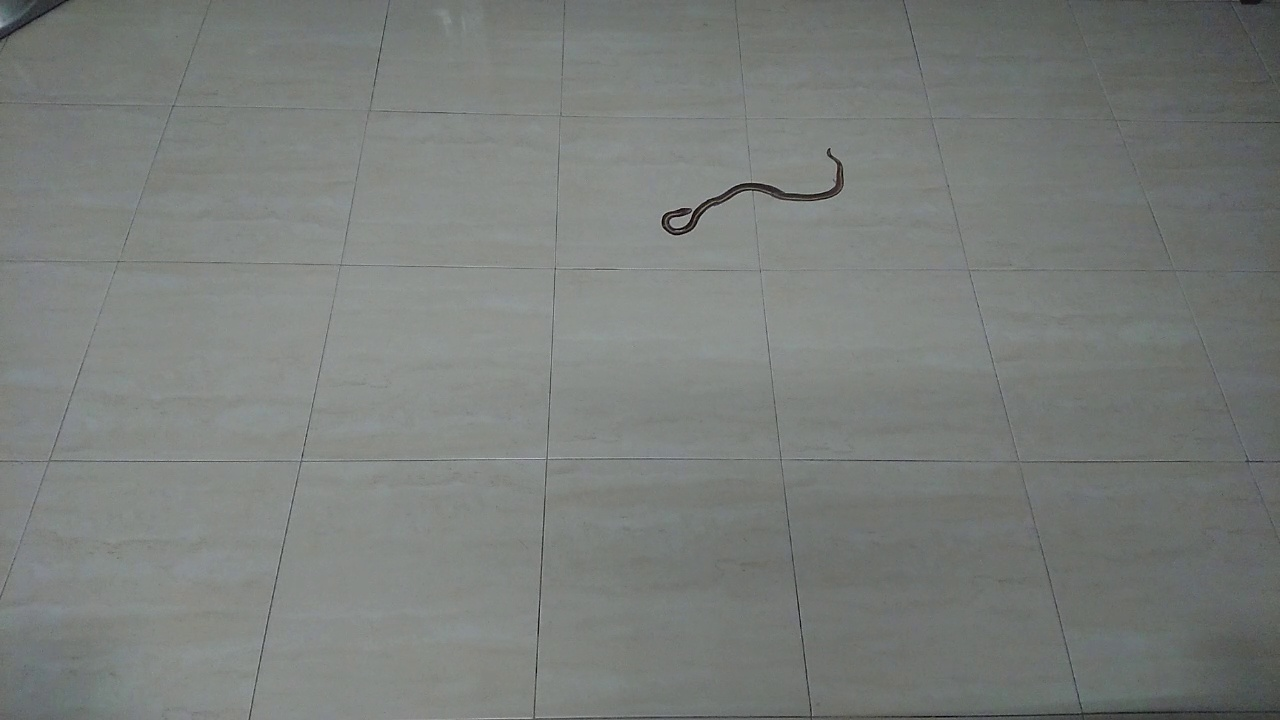snake: (647, 137, 856, 240)
